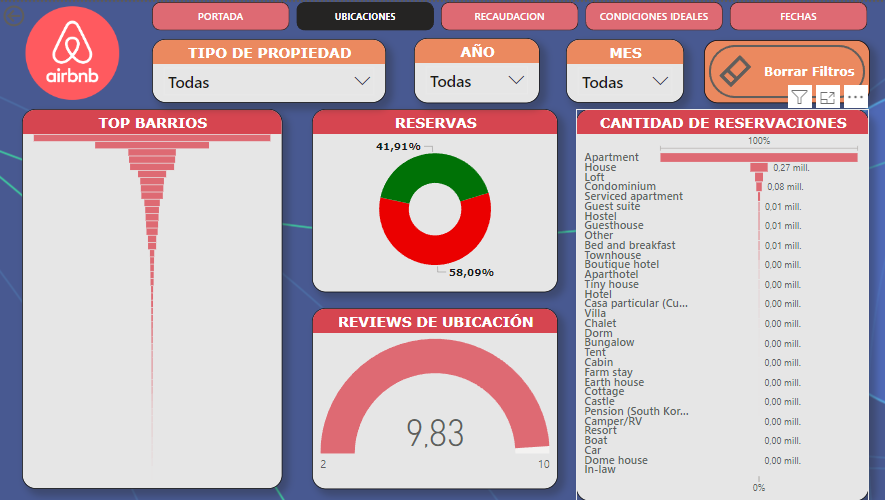

The page's visual inventory and layout, read from the dashboard file:
{"tool":"powerbi","page":{"name":"UBICACIONES","canvas":[1280,720],"ordinal":1},"visuals":[{"type":"image","box":[31.7,0,145.4,146.9],"z":0},{"type":"funnel","title":"TOP BARRIOS","fields":{"Category":["listings.barrio"],"Y":["Sum(listings.price)"]},"box":[31.2,154.3,374.6,547.3],"z":1000},{"type":"donutChart","title":"RESERVAS","fields":{"Y":["CountNonNull(calendar.Disponibilidad)"],"Category":["calendar.Disponibilidad"]},"box":[449.9,154.3,354.4,264.4],"z":2000},{"type":"actionButton","box":[1013.8,54.7,239,90.7],"z":3000},{"type":"gauge","title":"REVIEWS DE UBICACIÓN","fields":{"Y":["Avg(listings.review_ubicacion)"],"MaxValue":["Max(listings.review_general)"],"MinValue":["Min(listings.review_general)"]},"box":[449.9,440.7,354.4,260.8],"z":4000},{"type":"slicer","title":"TIPO DE PROPIEDAD","fields":{"Values":["listings.tipo_propiedad"]},"box":[218.9,53.3,337,92.2],"z":5000},{"type":"slicer","title":"AÑO","fields":{"Values":["calendar.Fecha.Variación.Jerarquía de fechas.Año"]},"box":[596.2,51.8,181.4,93.6],"z":6000},{"type":"slicer","title":"MES","fields":{"Values":["calendar.Fecha.Variación.Jerarquía de fechas.Mes"]},"box":[815,53.3,169.9,92.2],"z":7000},{"type":"pageNavigator","box":[218.9,0,1033.9,41.8],"z":8000},{"type":"funnel","title":"CANTIDAD DE RESERVACIONES","fields":{"Y":["CountNonNull(calendar.Lista_ID)"],"Category":["listings.tipo_propiedad"]},"box":[829.3,153.9,422.5,565.4],"z":9000},{"type":"actionButton","box":[0,0,100,40],"z":10000}]}

Visuals, with their boxes in screenshot pixels (x1, y1, x2, y2), scaled from the page's 1280x720 canvas onto the 885x500 screenshot:
image: bbox=(22, 0, 122, 102)
"TOP BARRIOS" funnel: bbox=(22, 107, 281, 487)
"RESERVAS" donutChart: bbox=(311, 107, 556, 291)
actionButton: bbox=(701, 38, 866, 101)
"REVIEWS DE UBICACIÓN" gauge: bbox=(311, 306, 556, 487)
"TIPO DE PROPIEDAD" slicer: bbox=(151, 37, 384, 101)
"AÑO" slicer: bbox=(412, 36, 538, 101)
"MES" slicer: bbox=(563, 37, 681, 101)
pageNavigator: bbox=(151, 0, 866, 29)
"CANTIDAD DE RESERVACIONES" funnel: bbox=(573, 107, 866, 499)
actionButton: bbox=(0, 0, 69, 28)
